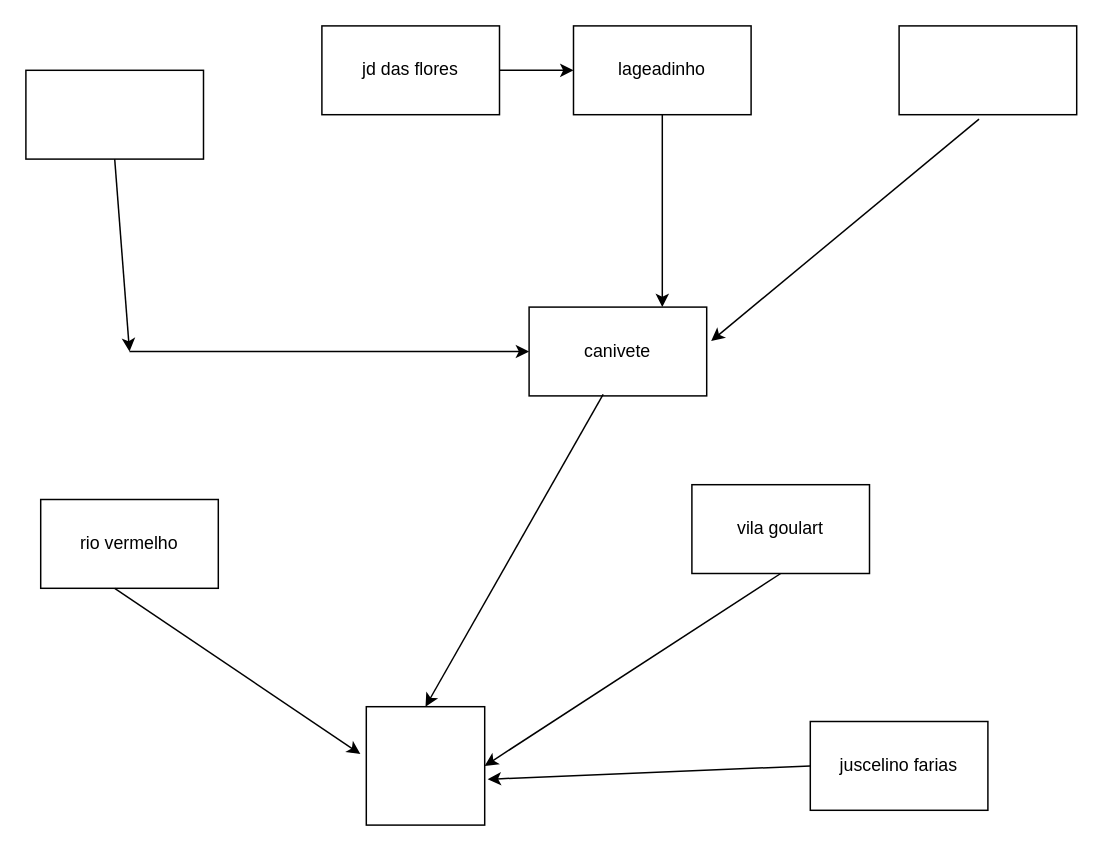
This 1103x851 diagram has some shape labels left out. The shapes that lost their labels are listed below. From the top down, each one's centre as x and y in pixels, then its label:
At pixel 987 69: "cardoso".
At pixel 114 114: "nova era".
At pixel 425 765: "canaa".
